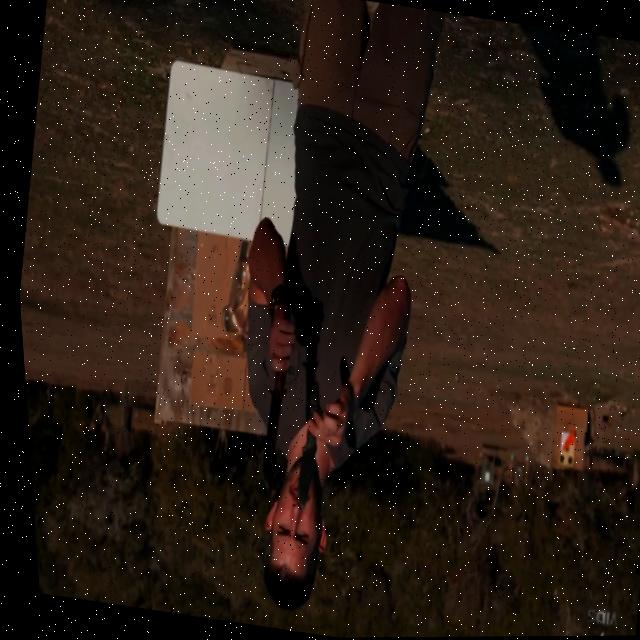knife: (281, 379, 325, 514), (246, 368, 290, 492)
